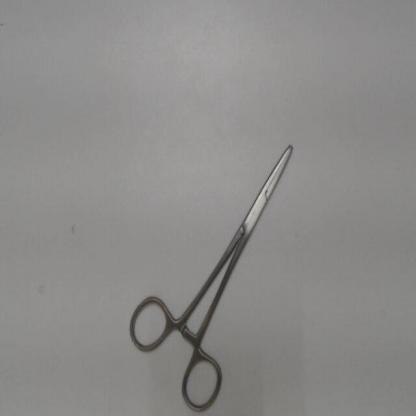Mayo Needle Holder: (124, 132, 304, 415)
